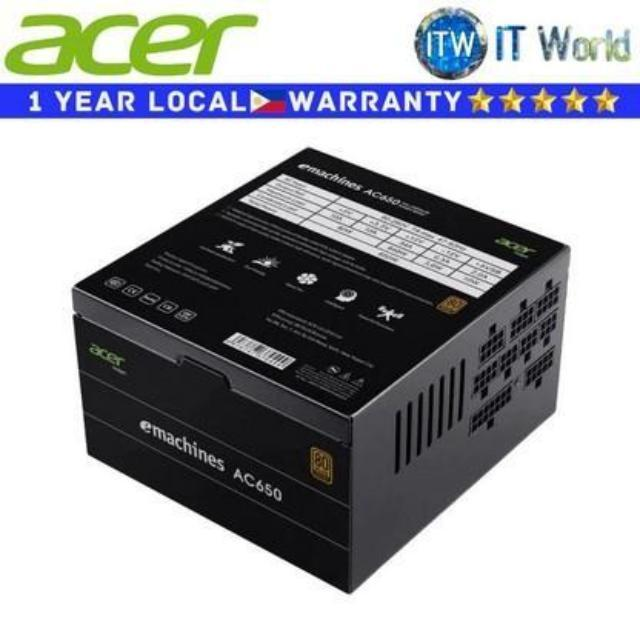PSU: (66, 139, 574, 601)
